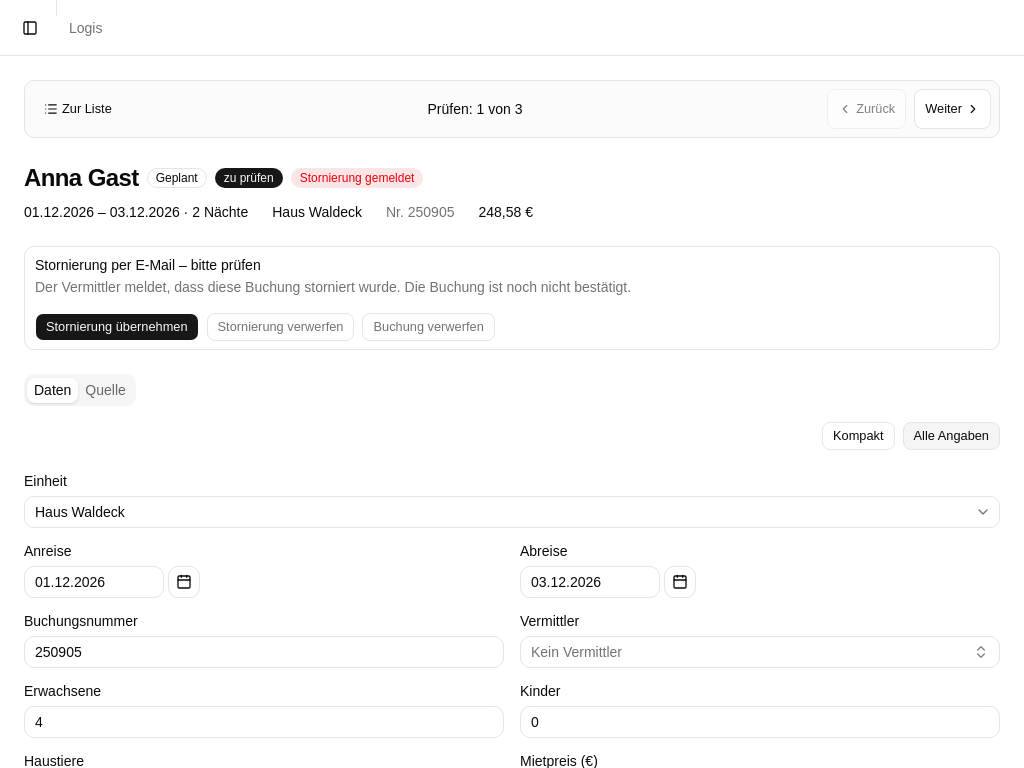
Scenario: Review mode › stays on an unconfirmed booking after its reported cancellation was discarded, and moves on after applying one
Check: the heading "Anna Gast" is shown, box [24,162,139,194]
Click the button "Stornierung verwerfen" at (281, 327), box [207,313,354,341]
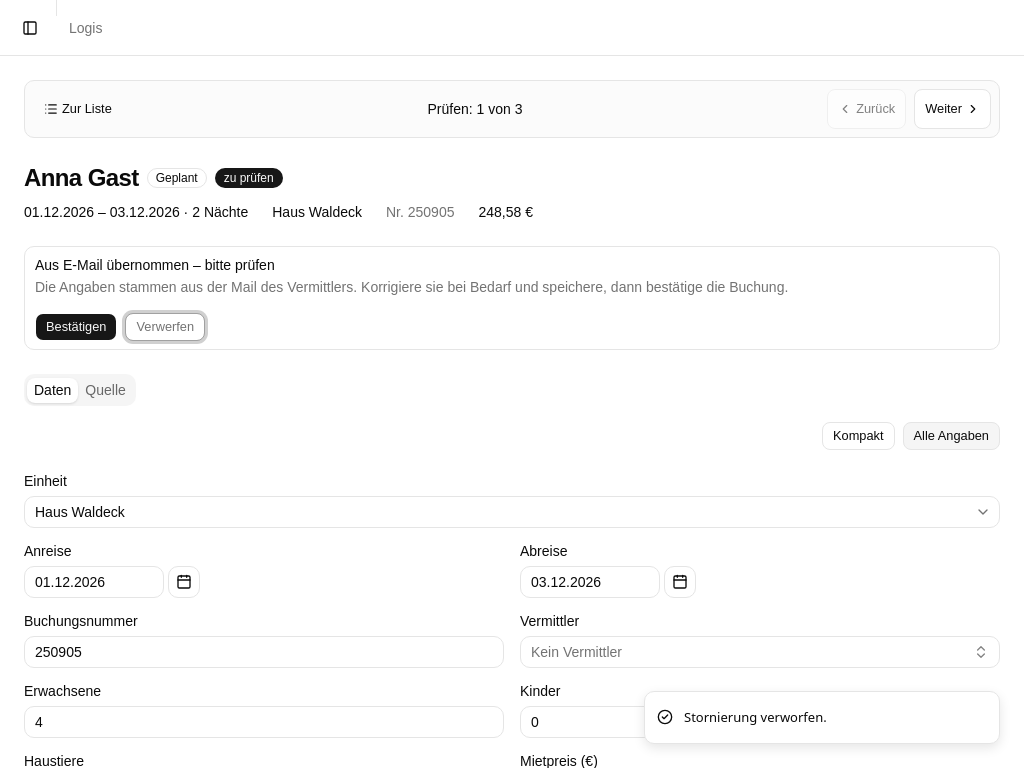
Check: the heading "Anna Gast" is shown, box [24,162,139,194]
Check: the button "Bestätigen" is shown
Click the button "Bestätigen" at (76, 327), box [35,313,118,341]
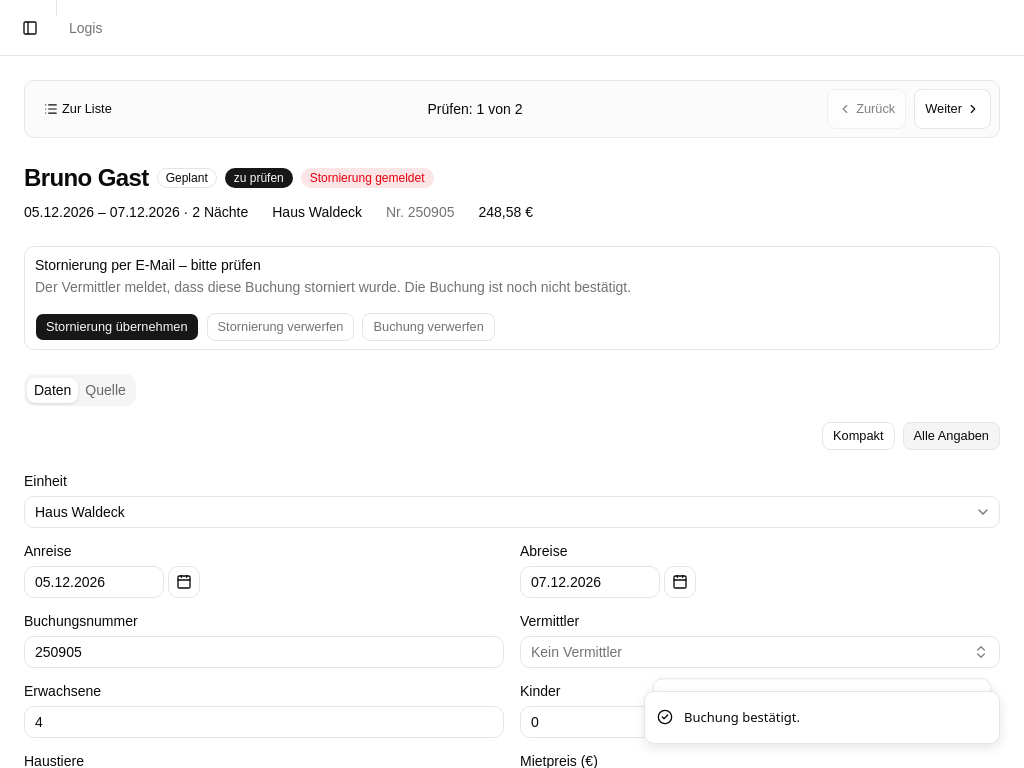
Check: the heading "Bruno Gast" is shown, box [24,162,149,194]
Click the button "Stornierung übernehmen" at (117, 327), box [35,313,199,341]
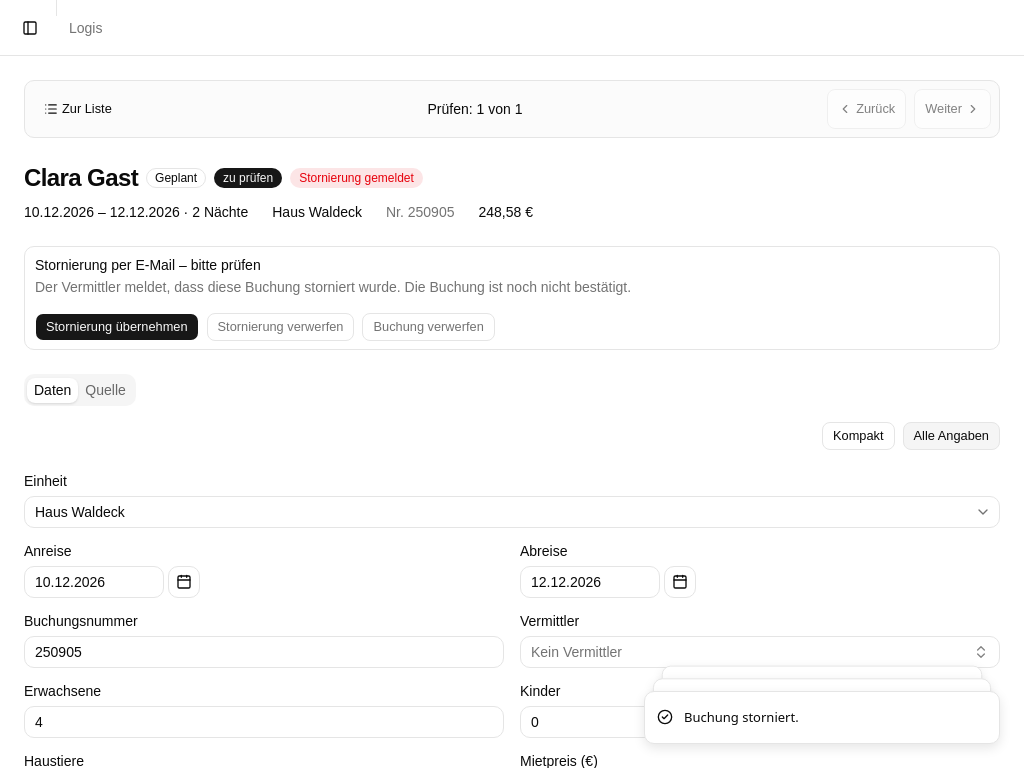
Check: the heading "Clara Gast" is shown, box [24,162,138,194]
Check: the navigation bar "Prüfen" shows "1 von 1", box [476,101,522,117]
Click the button "Buchung verwerfen" at (429, 327), box [362,313,495,341]
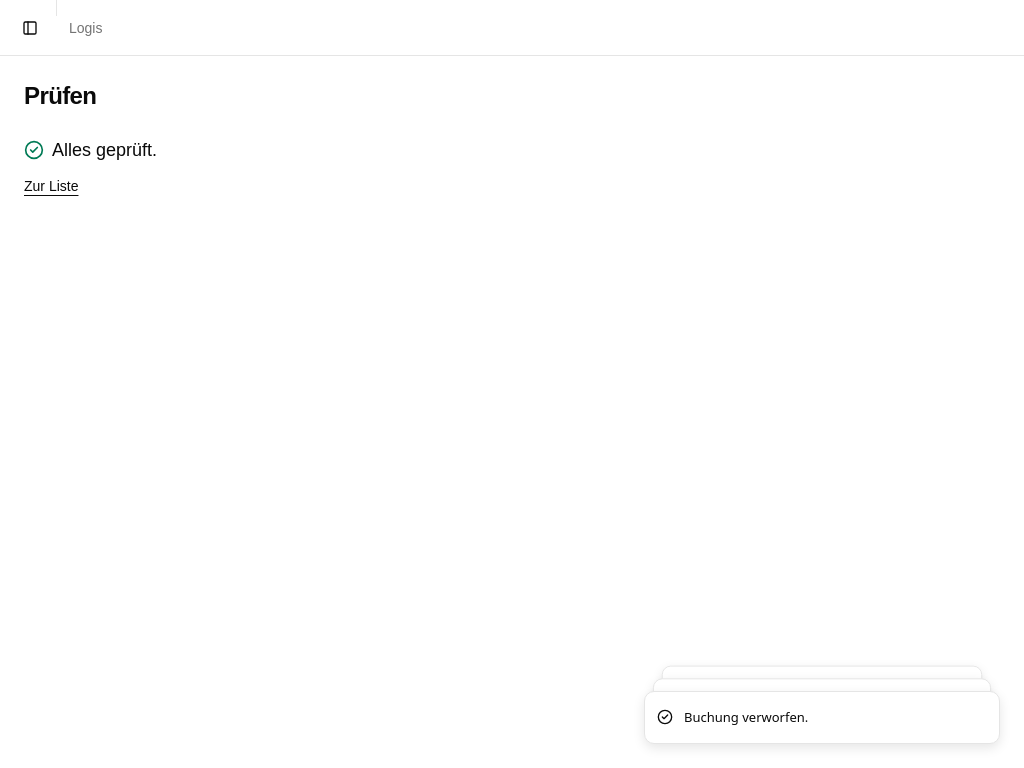
Check: the text "Alles geprüft." is shown, box [24,136,157,164]
